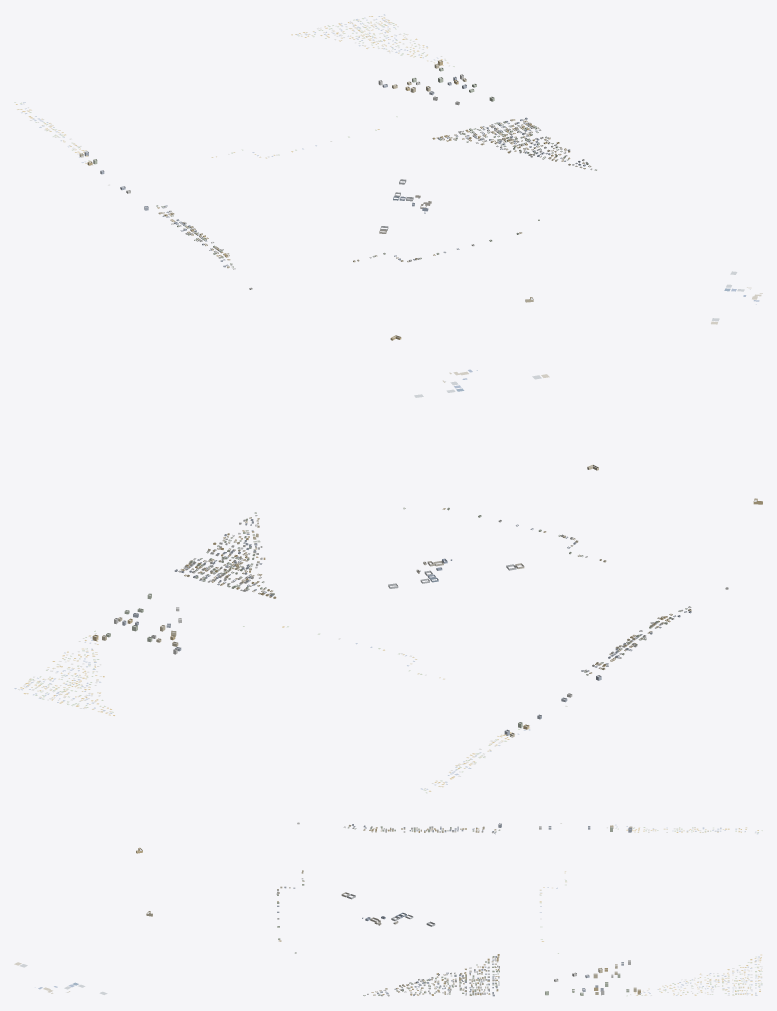
3 views of the same model, one above another, from view 1: azimuth 30°, elevation 25°; view 2: azimuth 150°, elevation 25°; view 3: azimuth 270°, elevation 25° (orthographic). The views are drawn at different scales.
Visible parts, largest first — view 1: house, roof_zinc, apartment; view 2: house, roof_zinc, apartment; view 3: house, roof_zinc, apartment, factory.
Part boxes in pixels (bbox=[...]): house: bbox=[156, 117, 596, 289]; roof_zinc: bbox=[14, 14, 762, 324]; apartment: bbox=[79, 60, 533, 340]; house: bbox=[174, 507, 728, 675]; roof_zinc: bbox=[14, 369, 567, 793]; apartment: bbox=[92, 465, 762, 737]; house: bbox=[276, 822, 500, 996]; roof_zinc: bbox=[14, 823, 762, 996]; apartment: bbox=[136, 823, 640, 995]; factory: bbox=[341, 892, 435, 926].
Bounding box in the file's own units: 7.89e+07 × 736230 × 1.44e+08.
